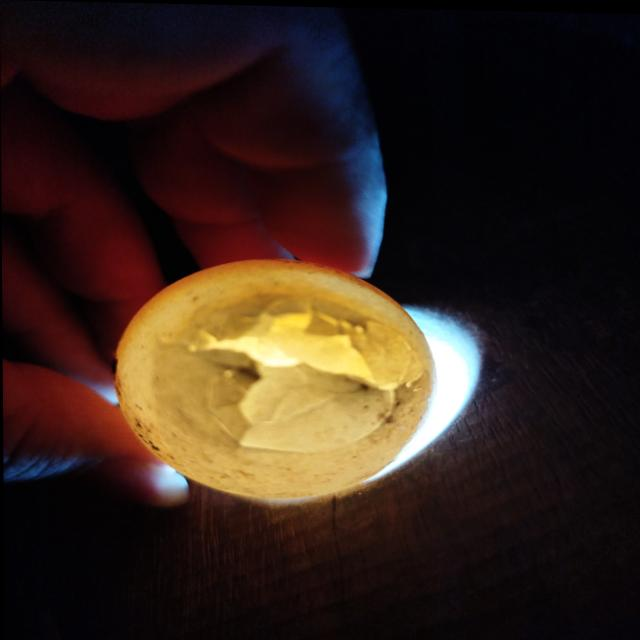Rachadura: (160, 295, 425, 454)
